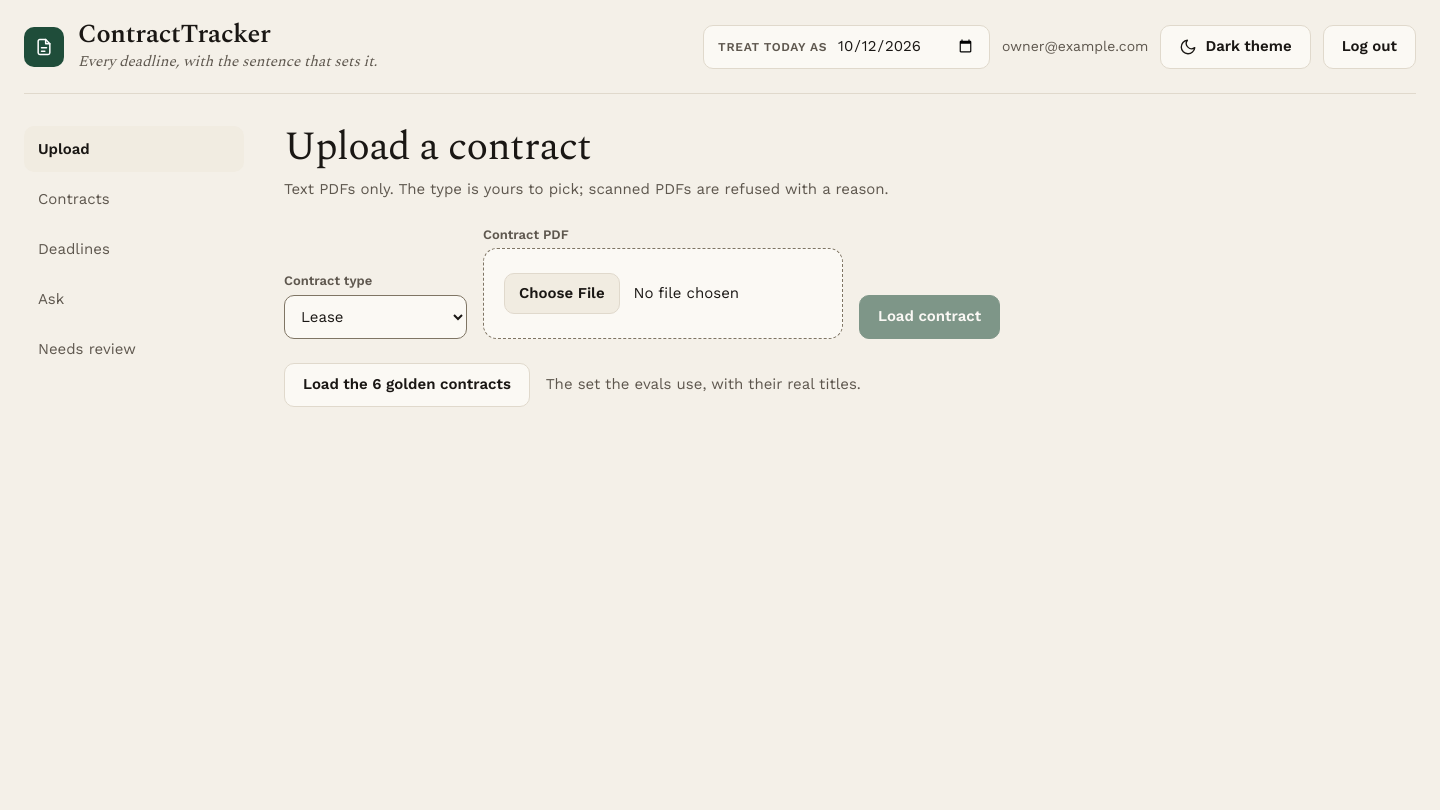
Test: the page › TC-0118: a contract shows its fields with value, quote and clause
Expected: the tab "Upload" is shown, [24,126,244,172]
Click the tab "Contracts": (134, 199) [24,176,244,222]
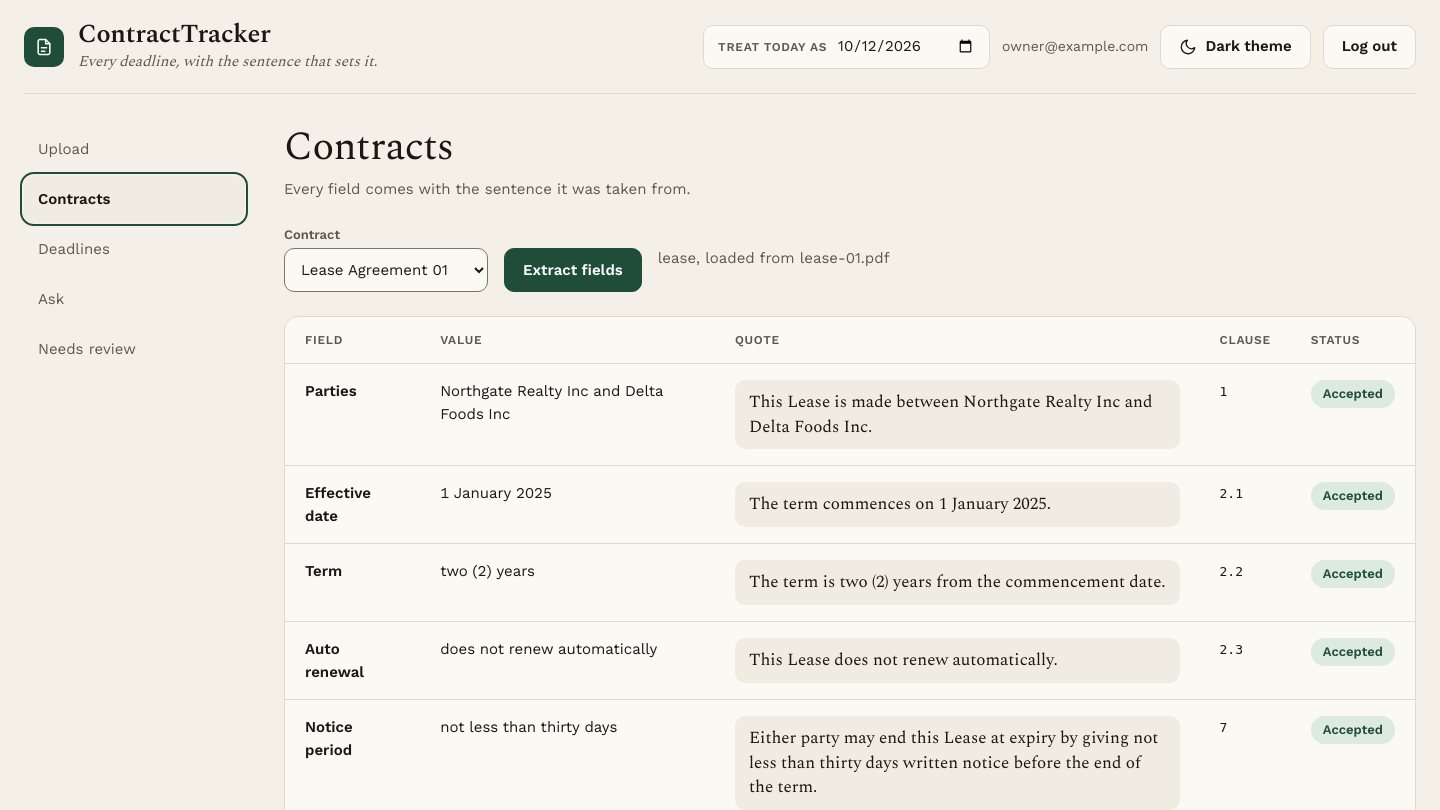
Expected: the text "giving not less than thirty days written notice" is shown, [749,725,1158,800]
Expected: the text "7" is shown, [1220,720,1227,735]
Expected: the text "Accepted" in the row of "Notice period" is shown, [1323,722,1383,737]
